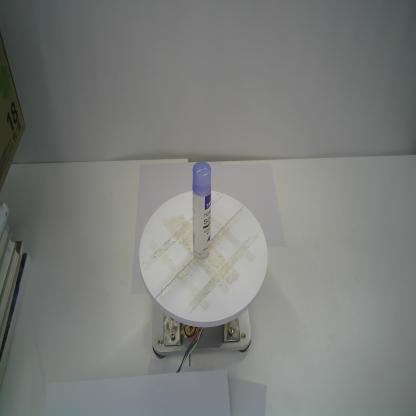Stationery: (192, 161, 212, 260)
